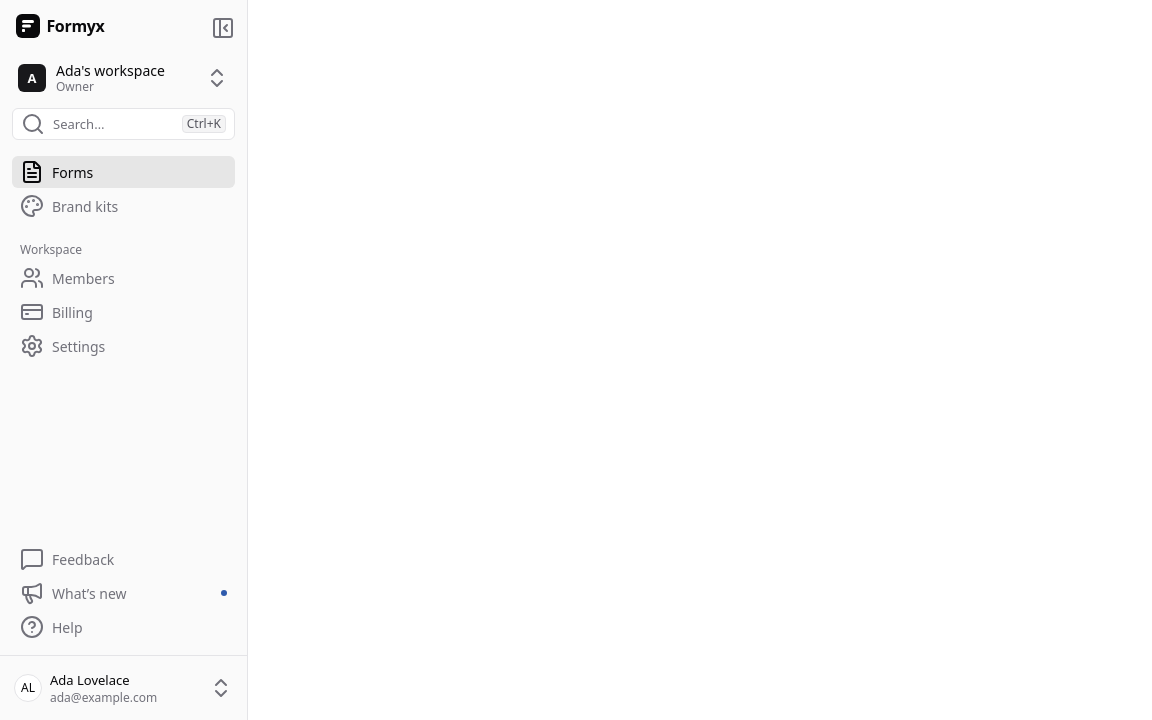
it: UserMenu › offers the profile, appearance and keyboard shortcuts
This screenshot has width=1152, height=720.
Click the button with aria-label "Account menu for Ada Lovelace" at (124, 688), box [8,664,239,712]
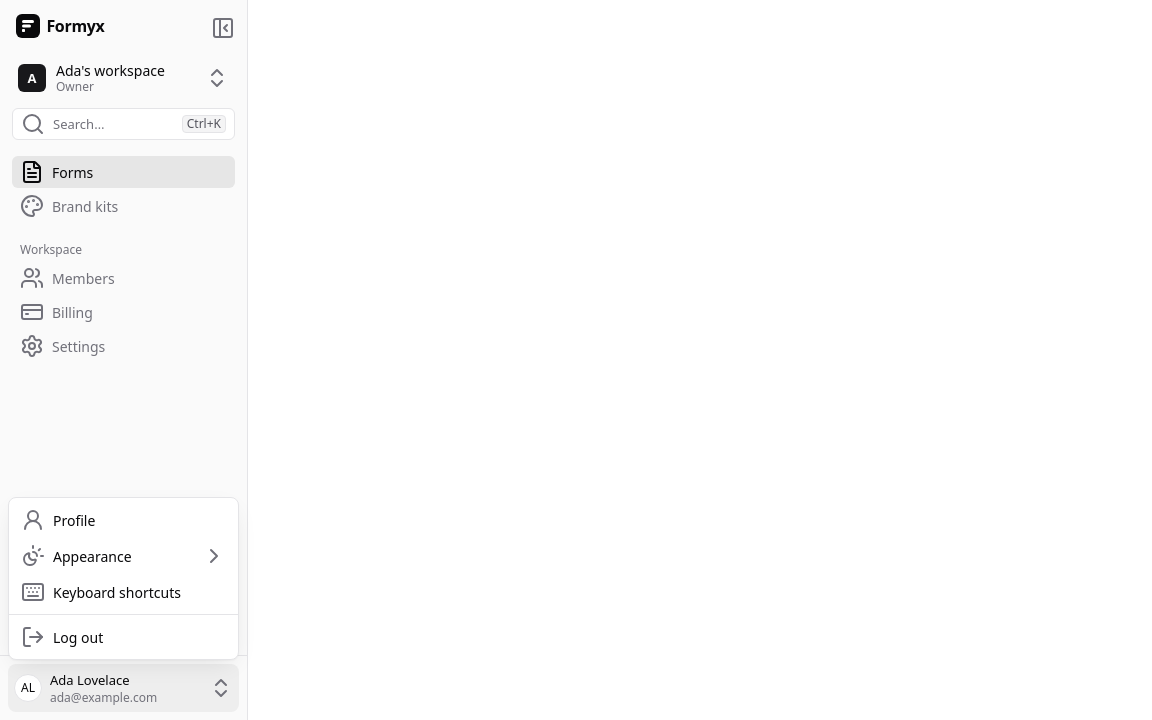
Check: the menu item "Appearance" is shown, box [13,538,234,574]
Click the menu item "Keyboard shortcuts" at (101, 592), box [21,580,181,604]
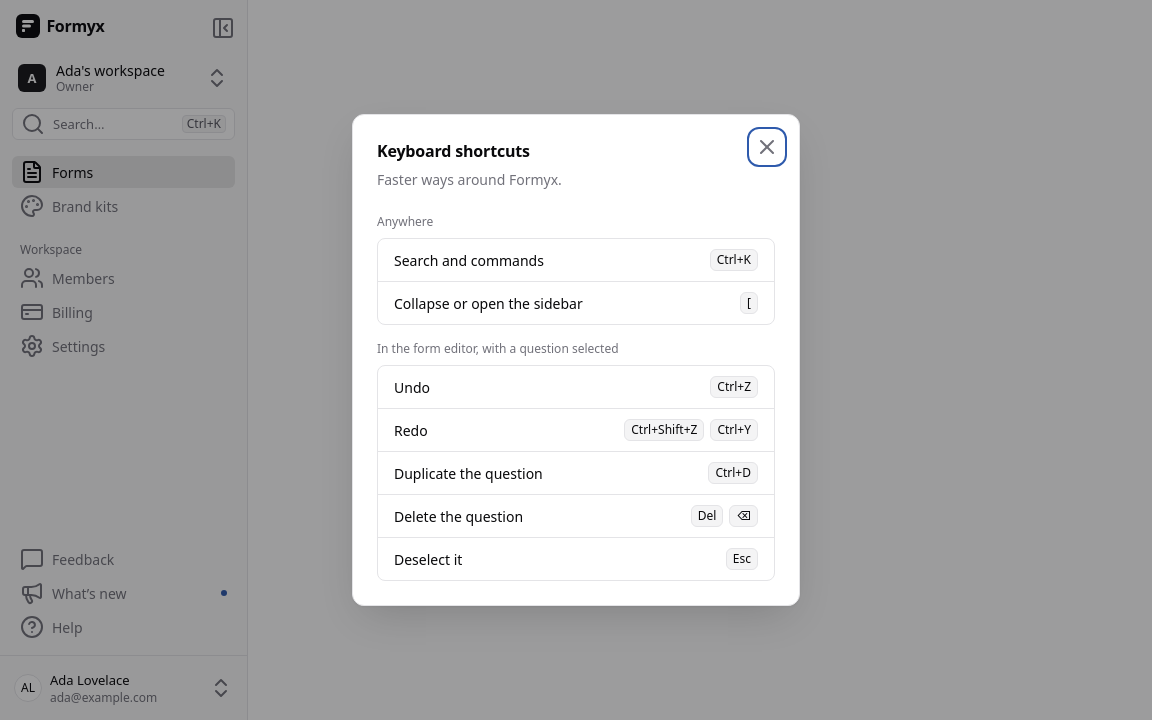
Check: the text "Collapse or open the sidebar" is shown, box [394,292,583,314]
